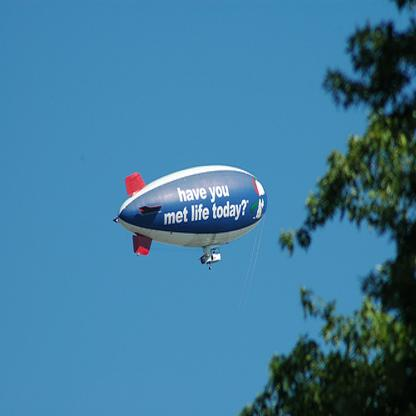Airship: (109, 163, 274, 271)
